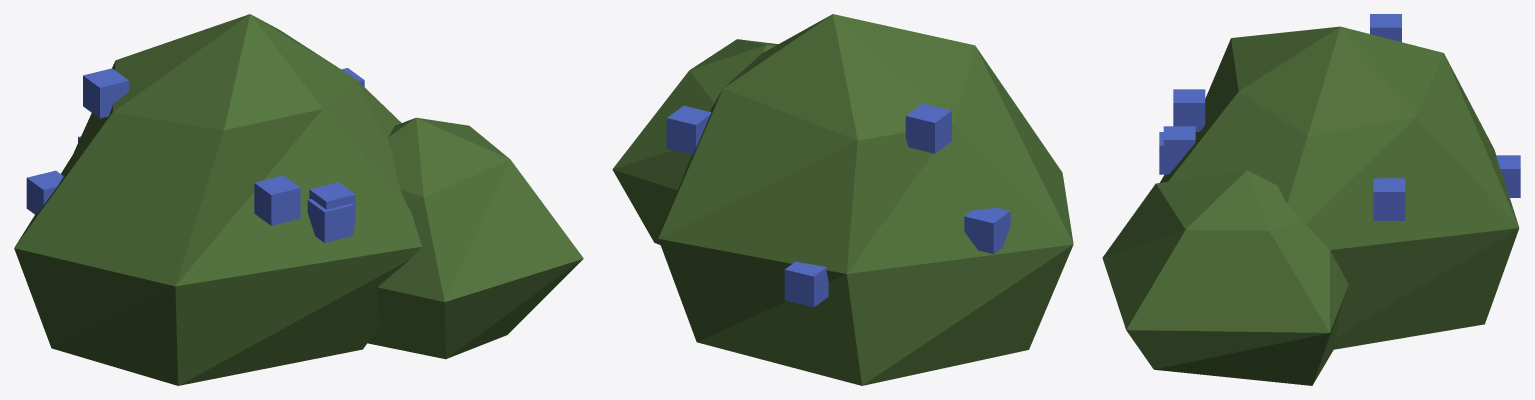
The model's file is berry_bush_1.obj.
The picture shows the model from 3 angles, left to right: view 1: azimuth 30°, elevation 25°; view 2: azimuth 150°, elevation 25°; view 3: azimuth 270°, elevation 25°; orthographic projection. The views are drawn at different scales.
Parts seen in each view (by area): view 1: berry_bush_1; view 2: berry_bush_1; view 3: berry_bush_1.
Part boxes in pixels (x1,y1,x2,y2): berry_bush_1: (14,14,583,385); berry_bush_1: (612,14,1073,385); berry_bush_1: (1102,14,1520,385).
Size of the model in its own units: 0.7117 by 0.42 by 0.5887.
